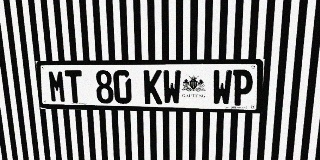0: (113, 70, 132, 104)
8: (95, 70, 114, 103)
K: (144, 70, 162, 104)
M: (48, 70, 67, 103)
P: (232, 70, 253, 106)
T: (64, 70, 84, 103)
W: (212, 70, 232, 105), (163, 70, 181, 105)
